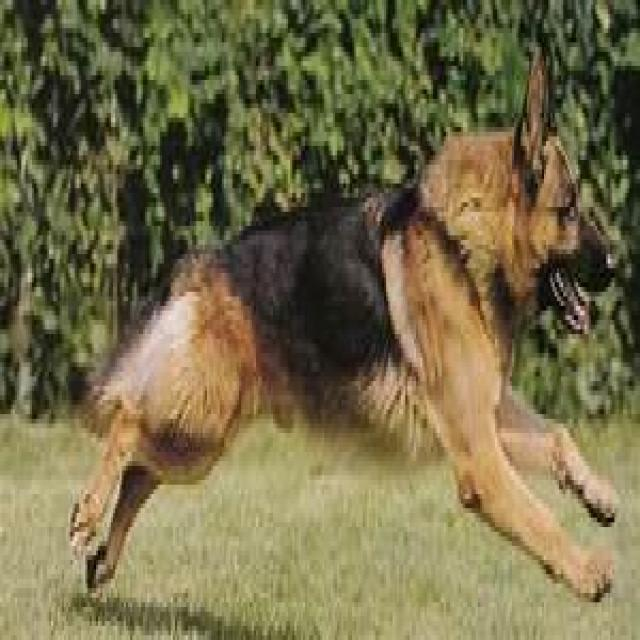dog: (68, 66, 619, 602)
